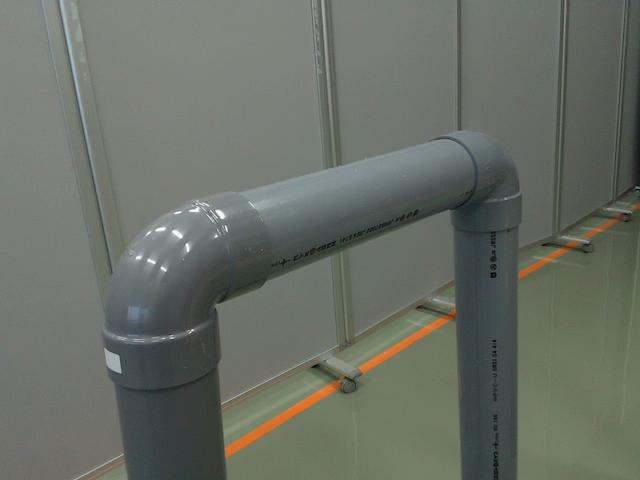bent: (99, 190, 275, 394), (423, 130, 523, 234)
